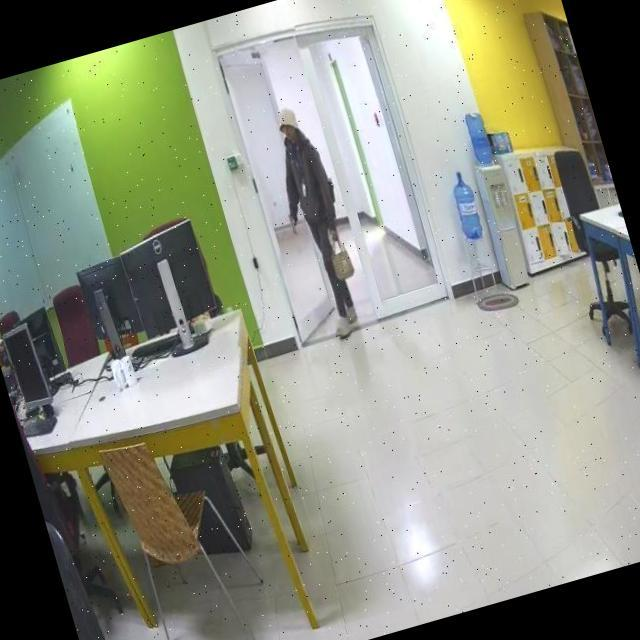person: (261, 104, 369, 343)
